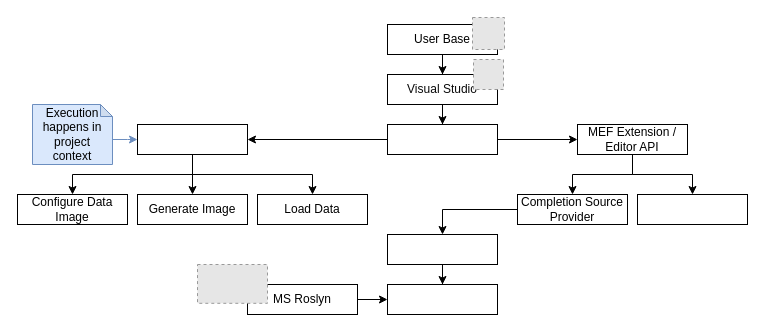
The diagram is 765 pixels wide and 332 high, and some of its shapes have lost their labels. Grey dashed boxes stand in for pictures. Here are the shapes that lost their labels. From the top down, the centre of each, then its label:
point (192, 139): Commands
point (442, 139): Discord.Net Support Extension
point (692, 209): Commit Manager Provider
point (442, 249): Completion Source
point (442, 299): Code Analyser
